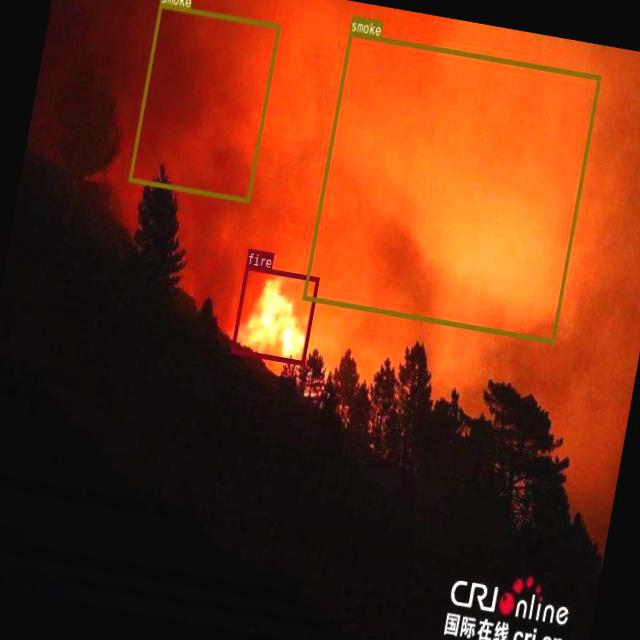fire: (230, 264, 318, 364)
smoke: (302, 30, 600, 342), (127, 2, 280, 202)
